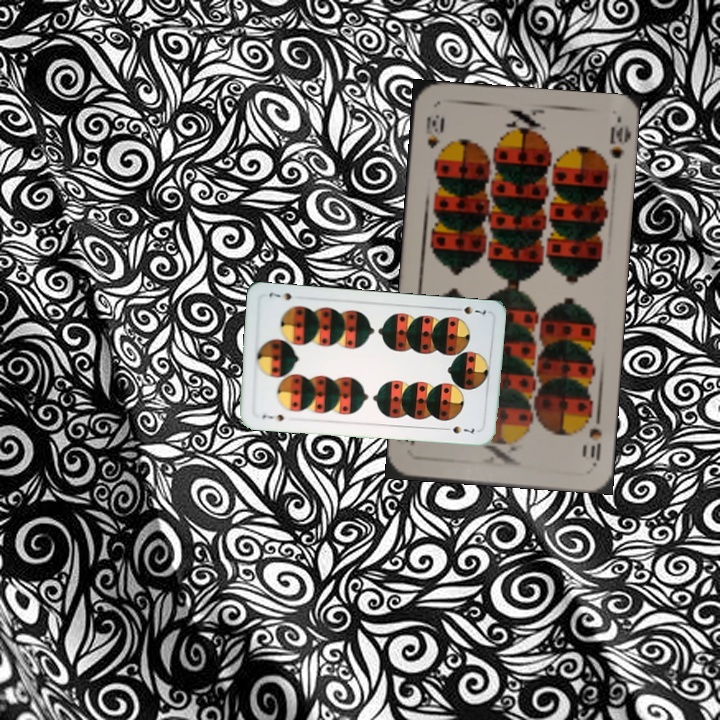S10: (585, 408, 604, 467), (421, 111, 444, 152)
S7: (449, 302, 489, 317), (258, 410, 286, 424)
